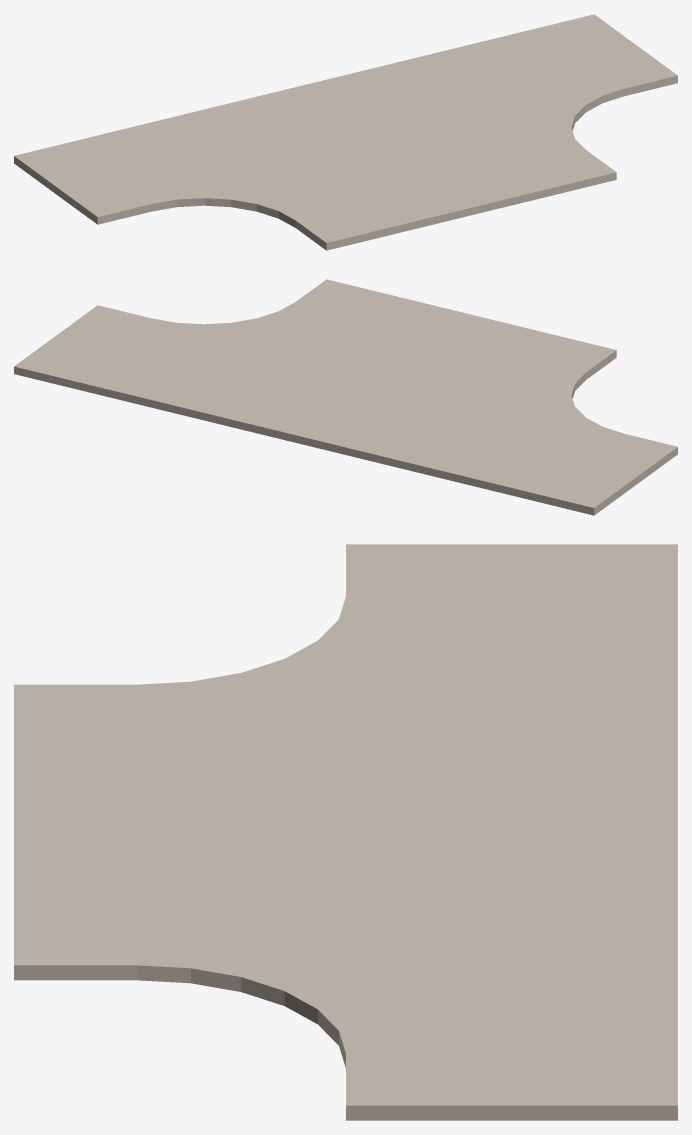
Rendered from SM_hiking_trail_11.glb.
3 views of the same model, one above another, from view 1: azimuth 30°, elevation 25°; view 2: azimuth 150°, elevation 25°; view 3: azimuth 270°, elevation 25° (orthographic). The views are drawn at different scales.
Visible parts, largest first — view 1: SM_hiking_trail_11; view 2: SM_hiking_trail_11; view 3: SM_hiking_trail_11.
Boxes of the visible parts, x1,y1,x2,y2 form: SM_hiking_trail_11: [14, 14, 677, 250]; SM_hiking_trail_11: [14, 279, 677, 515]; SM_hiking_trail_11: [14, 544, 677, 1120].
Size of the model in its own units: 8 by 0.1 by 4.
1 material, 1 textured.
